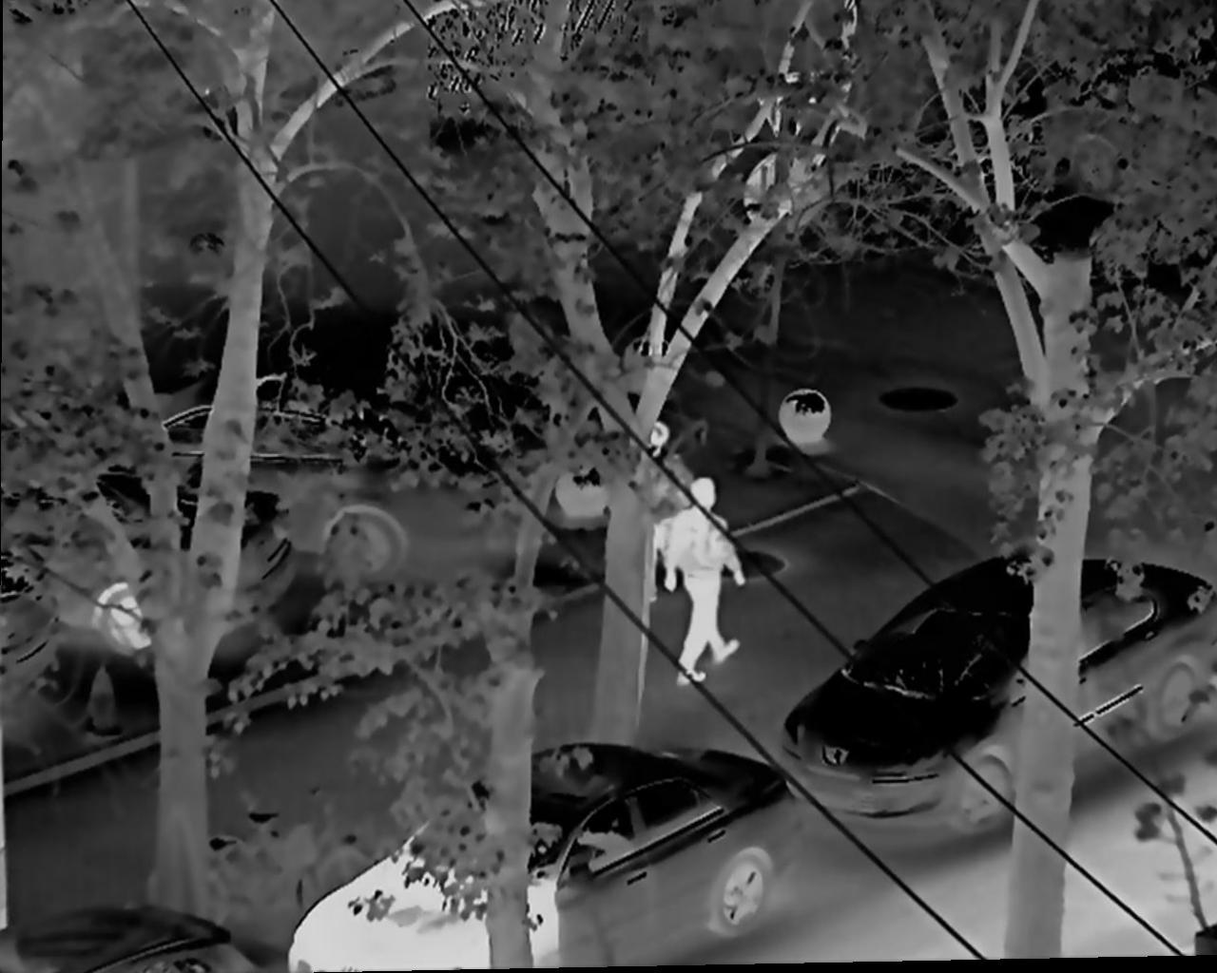person: (666, 477, 746, 685)
